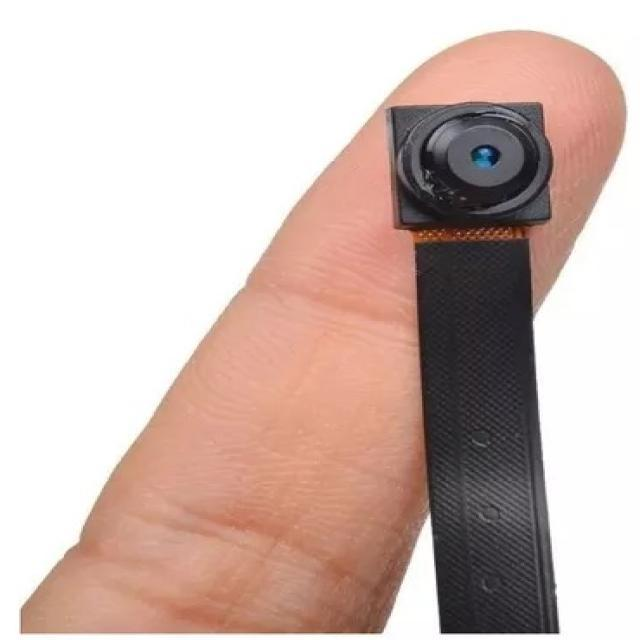hidden camera: (442, 127, 531, 194)
